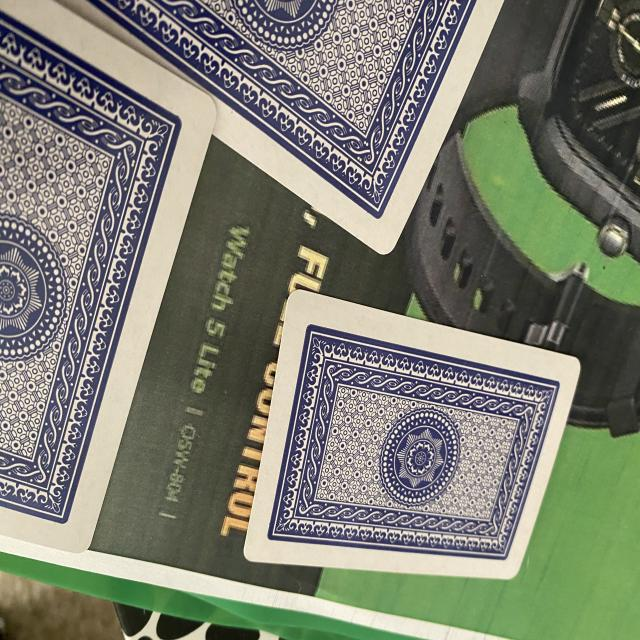Watch 5 Lite OSW-804: (147, 212, 271, 531)
